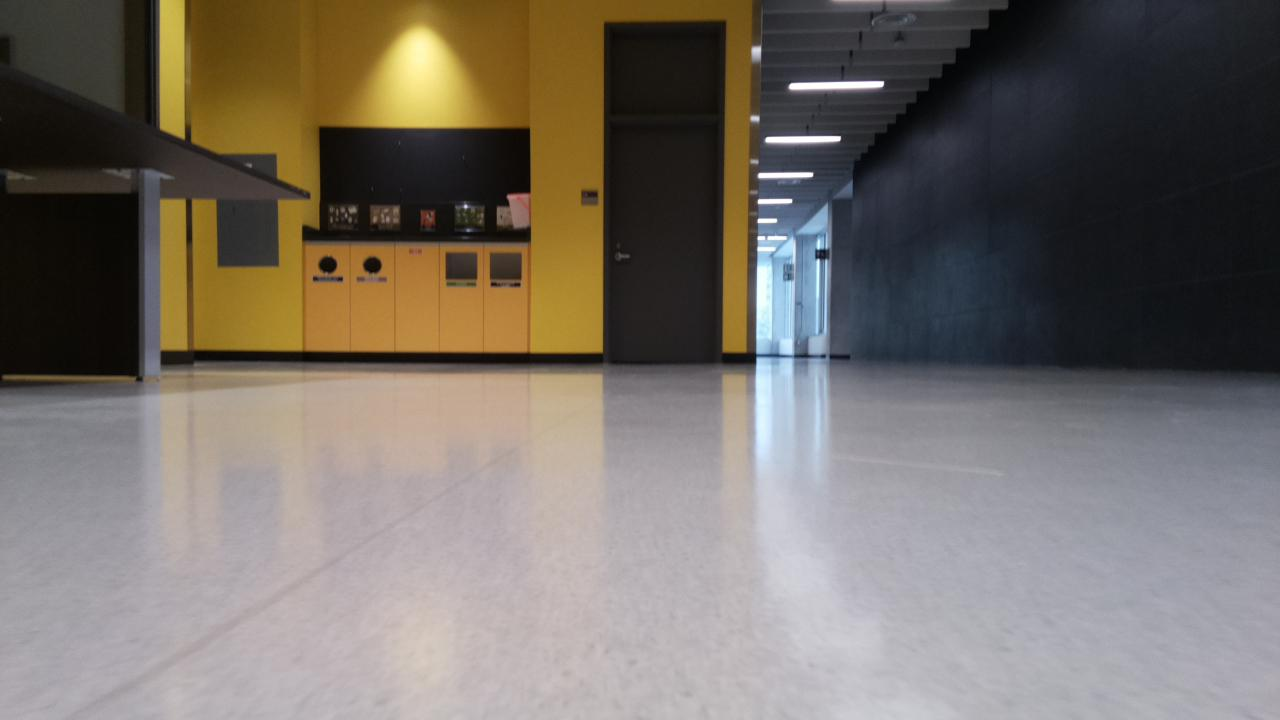door: (602, 19, 726, 365)
sign: (324, 202, 514, 231), (581, 191, 596, 203)
